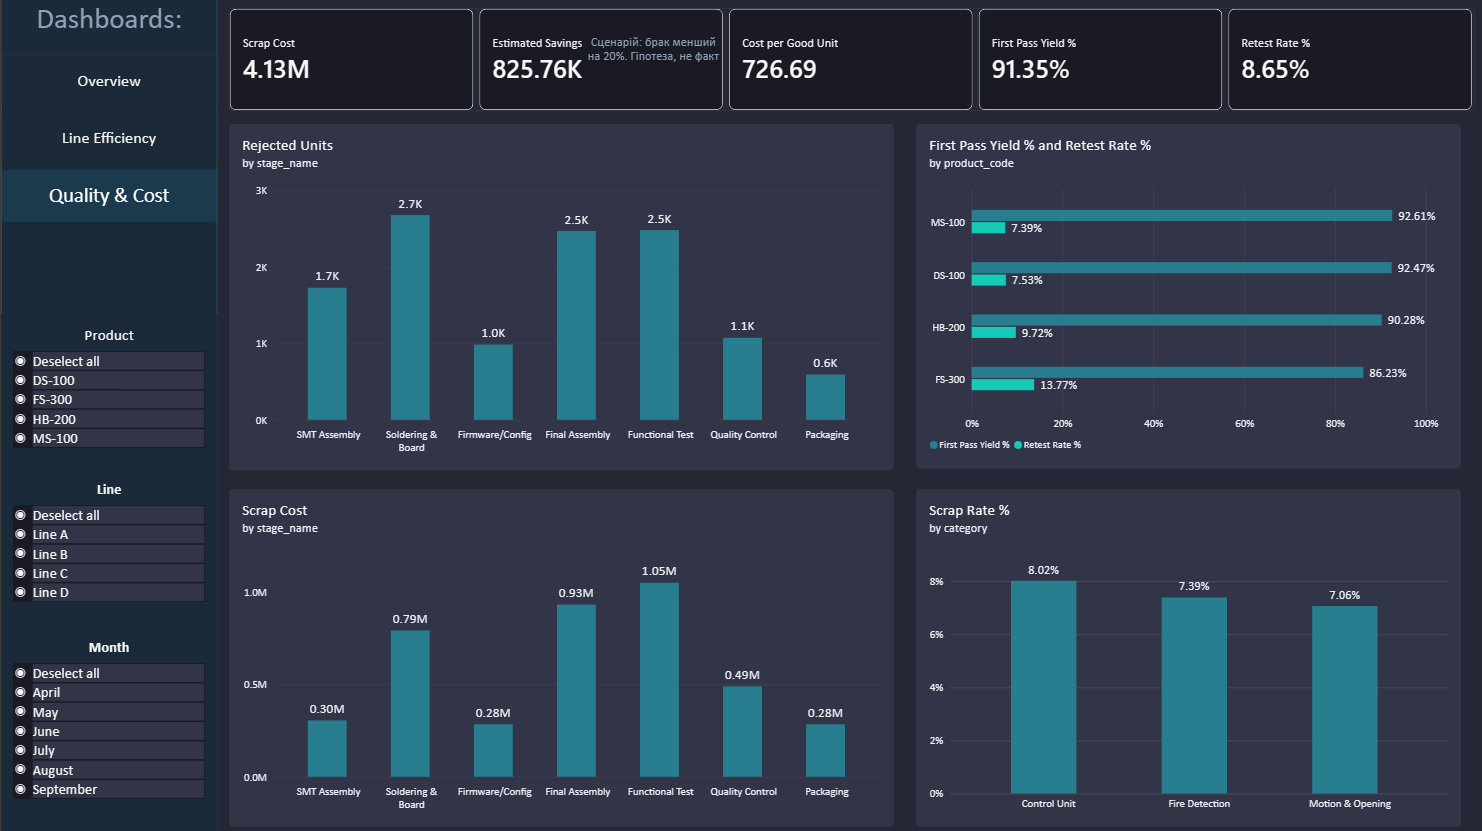

The dashboard page shown, as its layout file describes it:
{"tool":"powerbi","page":{"name":"Quality & Cost","canvas":[1920,1080],"ordinal":2},"visuals":[{"type":"textbox","box":[0,0,280,72.5],"z":0,"group":"g3"},{"type":"group","id":"g1","title":"Panel","box":[0,0,280,1080],"z":0},{"type":"cardVisual","fields":{"Data":["Table.Scrap Cost","Table.Estimated Savings","Table.Cost per Good Unit","Table.First Pass Yield %","Table.Retest Rate %"]},"box":[295,11.7,1611.7,133.3],"z":1000},{"type":"pageNavigator","box":[0,72.9,280,218.3],"z":1000,"group":"g3"},{"type":"clusteredColumnChart","fields":{"Category":["production_stages.stage_name"],"Y":["Table.Rejected Units"]},"box":[295,161.7,860.4,447.7],"z":2000},{"type":"shape","box":[0,0,280,1080],"z":3000,"group":"g1"},{"type":"clusteredColumnChart","fields":{"Category":["production_stages.stage_name"],"Y":["Table.Scrap Cost"]},"box":[295,634,860.4,437.3],"z":3000},{"type":"clusteredBarChart","fields":{"Category":["products.product_code"],"Y":["Table.First Pass Yield %","Table.Retest Rate %"]},"box":[1183.8,161.7,705.1,446.4],"z":4000},{"type":"listSlicer","title":"Month","fields":{"Values":["dim_date.month_name"]},"box":[0,813.4,280,266.7],"z":4000,"group":"g2"},{"type":"clusteredColumnChart","fields":{"Category":["products.category"],"Y":["Table.Scrap Rate %"]},"box":[1184,634,705,437],"z":5000},{"type":"textbox","box":[758.2,45.3,172.1,99.6],"z":6000},{"type":"listSlicer","title":"Line","fields":{"Values":["production_lines.line_name"]},"box":[0,608.9,280,204.4],"z":6000,"group":"g2"},{"type":"listSlicer","title":"Product","fields":{"Values":["products.product_code"]},"box":[0,407.8,280,201.1],"z":7500,"group":"g2"},{"type":"group","id":"g2","title":"Slicers","box":[0,407.8,280,672.2],"z":7501,"group":"g1"},{"type":"group","id":"g3","title":"Dashboard","box":[0,0,280,291.2],"z":8001,"group":"g1"}]}

Visuals, with their boxes in screenshot pixels (x1, y1, x2, y2), scaled from the page's 1920x1080 canvas onto the 1482x831 screenshot:
textbox: Rect(0, 0, 216, 56)
"Panel" group: Rect(0, 0, 216, 830)
cardVisual - Table.Scrap Cost x Table.Estimated Savings: Rect(228, 9, 1472, 112)
pageNavigator: Rect(0, 56, 216, 224)
clusteredColumnChart - production_stages.stage_name x Table.Rejected Units: Rect(228, 124, 892, 469)
shape: Rect(0, 0, 216, 830)
clusteredColumnChart - production_stages.stage_name x Table.Scrap Cost: Rect(228, 488, 892, 824)
clusteredBarChart - products.product_code x Table.First Pass Yield %: Rect(914, 124, 1458, 468)
"Month" listSlicer: Rect(0, 626, 216, 830)
clusteredColumnChart - products.category x Table.Scrap Rate %: Rect(914, 488, 1458, 824)
textbox: Rect(585, 35, 718, 111)
"Line" listSlicer: Rect(0, 469, 216, 626)
"Product" listSlicer: Rect(0, 314, 216, 469)
"Slicers" group: Rect(0, 314, 216, 830)
"Dashboard" group: Rect(0, 0, 216, 224)
